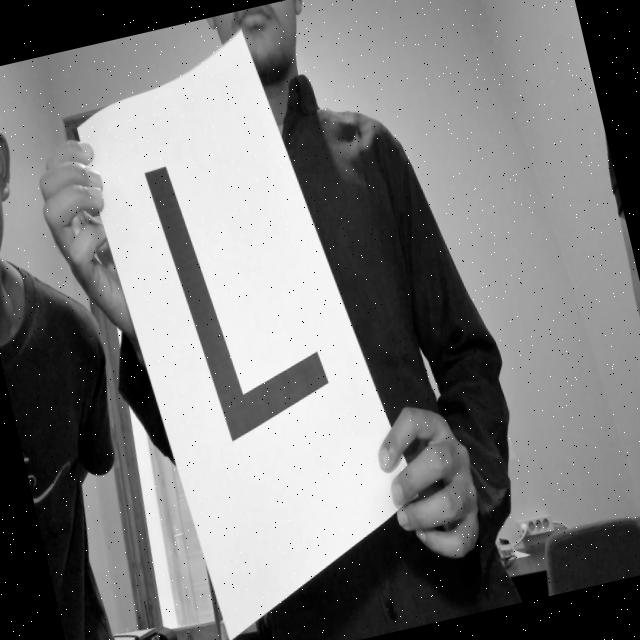l: (124, 116, 352, 482)
